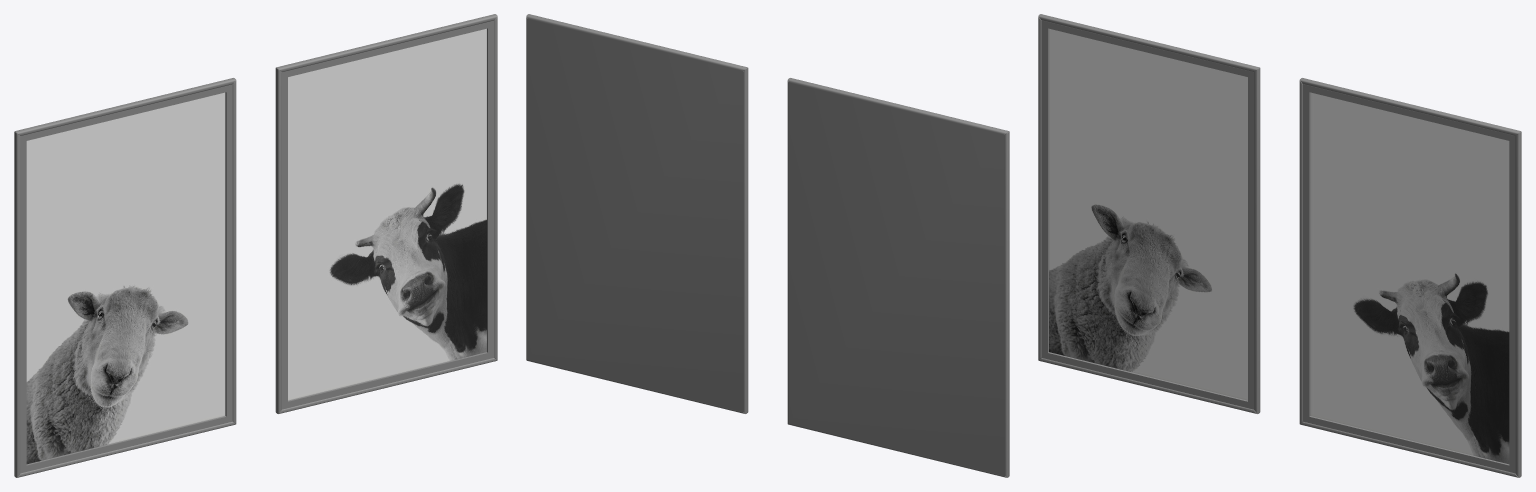
Rendered from Set of 2 pcs Rectangular Vertica.FBX.
3 renders of one model, left to right at view 1: azimuth 30°, elevation 25°; view 2: azimuth 150°, elevation 25°; view 3: azimuth 330°, elevation 25°, orthographic.
Visible parts, largest first — view 1: Box005; view 2: Box005; view 3: Box005.
Part boxes in pixels (x1=…): Box005: x1=14, y1=14, x2=497, y2=477; Box005: x1=526, y1=14, x2=1009, y2=477; Box005: x1=1038, y1=14, x2=1521, y2=477.
Size of the model in its own units: 525 by 360 by 6.54.
